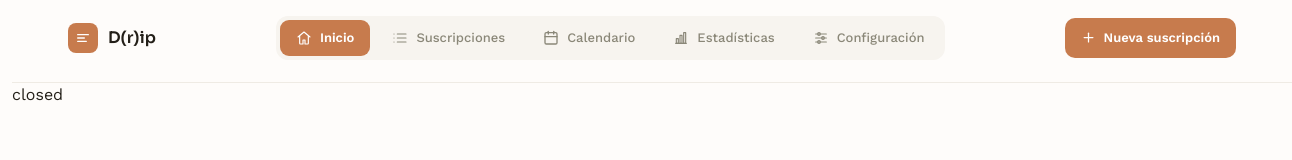
Test: TopBar › opens the create modal when the new-subscription button is clicked
The image size is (1292, 160).
Click the button "Nueva suscripción". click: {"x": 1150, "y": 38}
box: [1065, 18, 1236, 58]
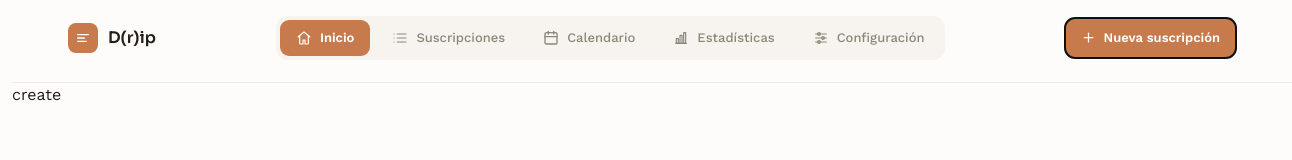
Expected: the text with test id "mode" reads "create", [12, 84, 61, 104]
